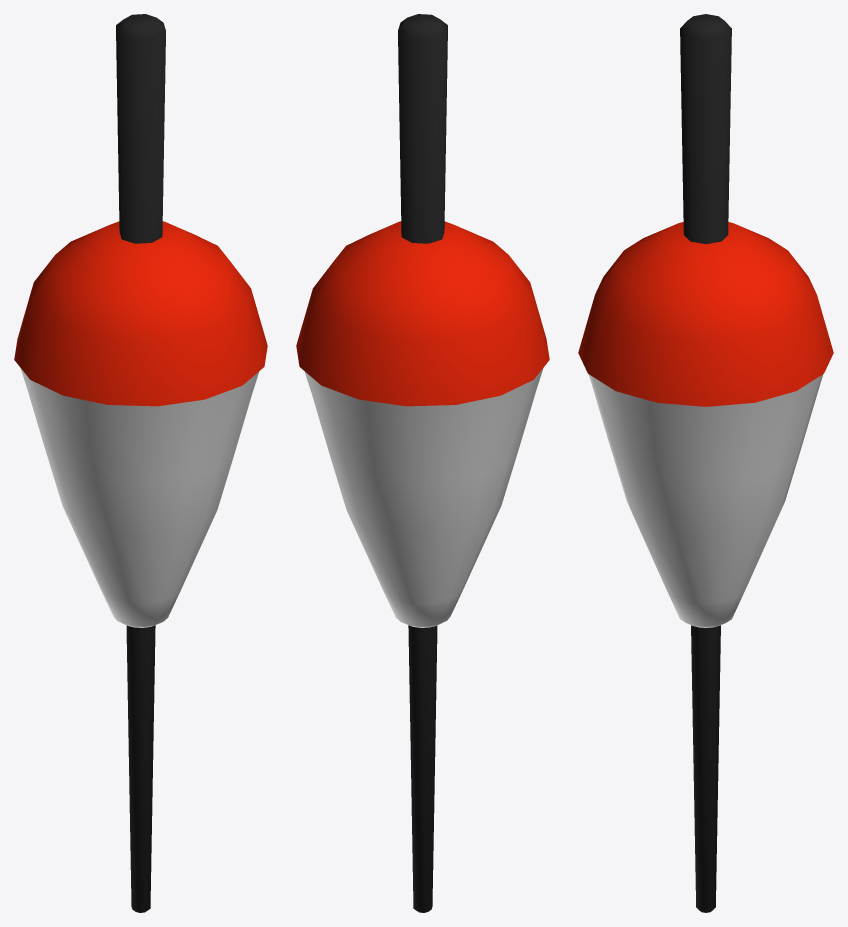
Rendered from bobber.fbx.
The picture shows the model from 3 angles, left to right: view 1: azimuth 30°, elevation 25°; view 2: azimuth 150°, elevation 25°; view 3: azimuth 270°, elevation 25°; orthographic projection.
Visible parts, largest first — view 1: Bobber; view 2: Bobber; view 3: Bobber.
Part boxes in pixels (<box>): Bobber: <box>14,14,267,912</box>; Bobber: <box>296,14,549,912</box>; Bobber: <box>578,14,833,912</box>.
Size of the model in its own units: 3.2 by 12.26 by 3.2.
